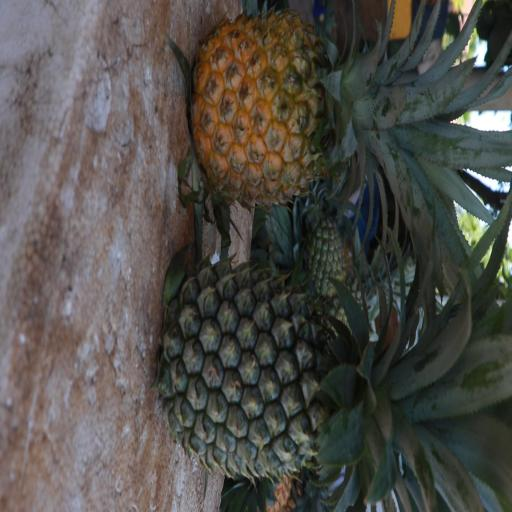Pineapple - v8 v1: (198, 21, 471, 200)
